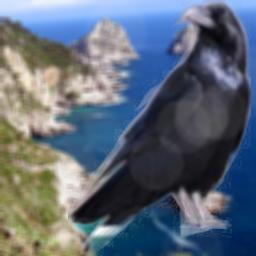Crow: (68, 0, 251, 256)
